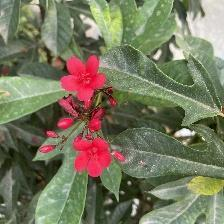jatropha: (61, 55, 112, 108)
